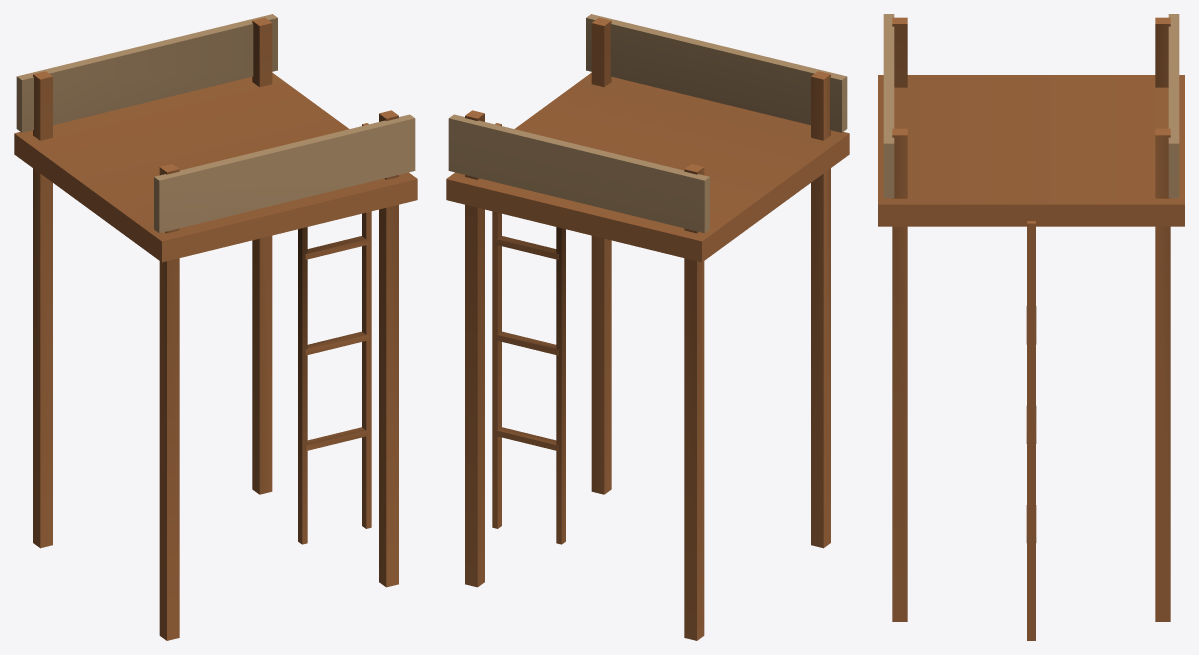
3 views of the same model, side by side, from view 1: azimuth 30°, elevation 25°; view 2: azimuth 150°, elevation 25°; view 3: azimuth 270°, elevation 25° (orthographic). The views are drawn at different scales.
Visible parts, largest first — view 1: body_pal_woodWarm, body_pal_khaki; view 2: body_pal_woodWarm, body_pal_khaki; view 3: body_pal_woodWarm, body_pal_khaki.
Part boxes in pixels (x1,y1,x2,y2): body_pal_woodWarm: [14, 17, 417, 640]; body_pal_khaki: [16, 14, 415, 233]; body_pal_woodWarm: [446, 17, 849, 640]; body_pal_khaki: [448, 14, 847, 233]; body_pal_woodWarm: [878, 17, 1184, 640]; body_pal_khaki: [883, 14, 1179, 198].
Bounding box in the file's own units: 3.08 × 4.9 × 2.8.
